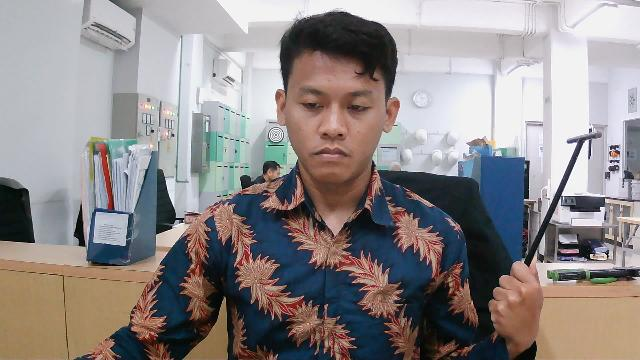kunci_t: (488, 123, 607, 340)
